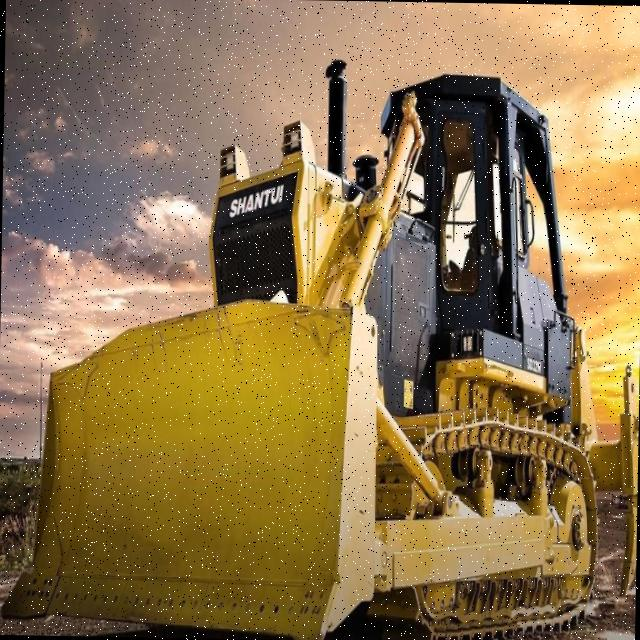Bulldozer: (3, 11, 640, 640)
